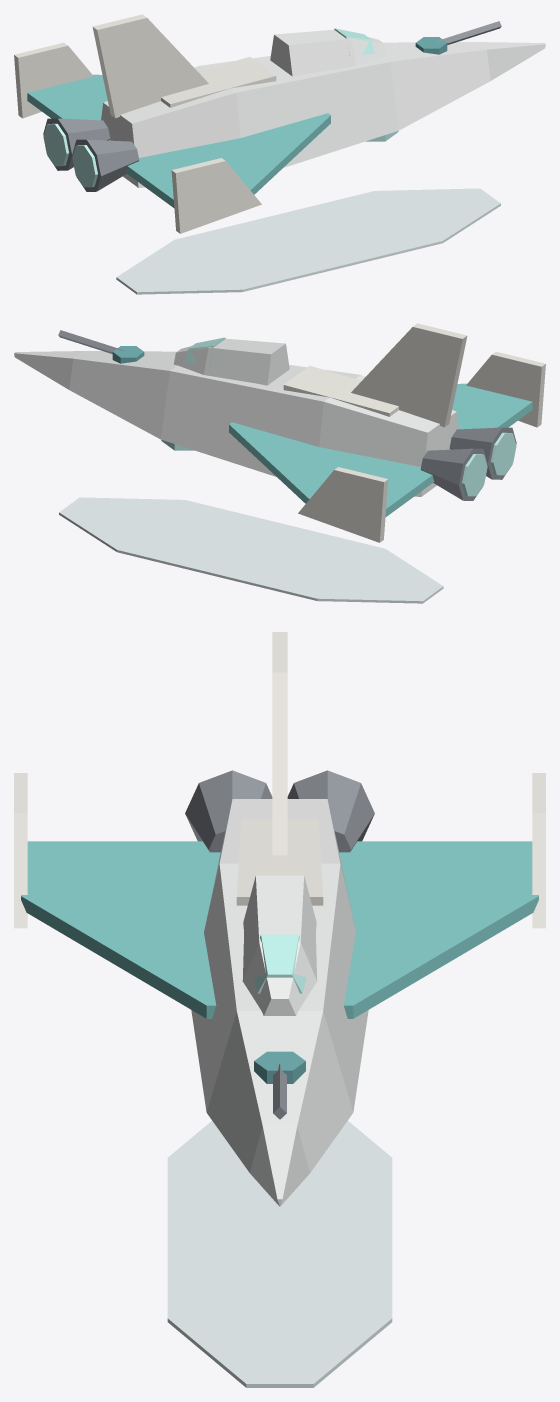
The model's file is fleet.glb.
3 renders of one model, top to bottom at view 1: azimuth 30°, elevation 25°; view 2: azimuth 150°, elevation 25°; view 3: azimuth 270°, elevation 25°, orthographic. The views are drawn at different scales.
Visible parts, largest first — view 1: stellar_fleet; view 2: stellar_fleet; view 3: stellar_fleet.
Boxes of the visible parts, box(x1,y1,x2,y2) form: stellar_fleet: box(14, 14, 545, 294); stellar_fleet: box(14, 323, 545, 603); stellar_fleet: box(14, 632, 545, 1387).
Bounding box in the file's own units: 0.9995 × 0.5351 × 0.5886.
